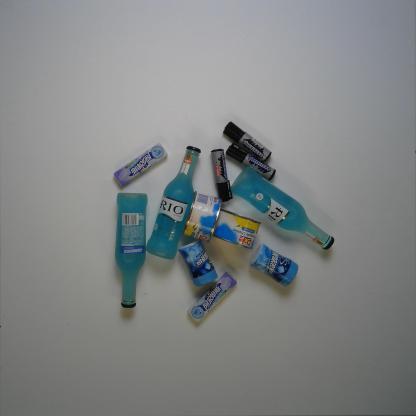Alcohol: (229, 164, 336, 252), (146, 145, 202, 260), (114, 192, 149, 309)
Candy: (186, 270, 238, 324), (113, 141, 168, 187)
Canned Food: (182, 190, 223, 244), (212, 208, 262, 250)
Gum: (249, 243, 299, 288), (177, 238, 219, 288)
Stationery: (222, 120, 273, 164), (225, 142, 277, 182), (210, 147, 234, 204)
